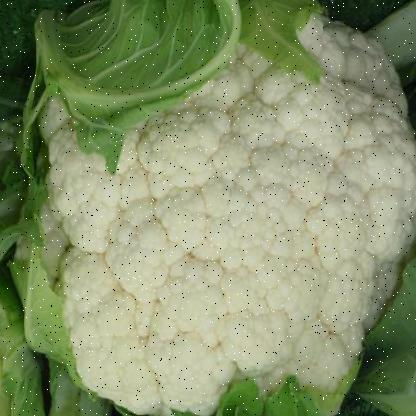cauliflower: (54, 6, 415, 415)
